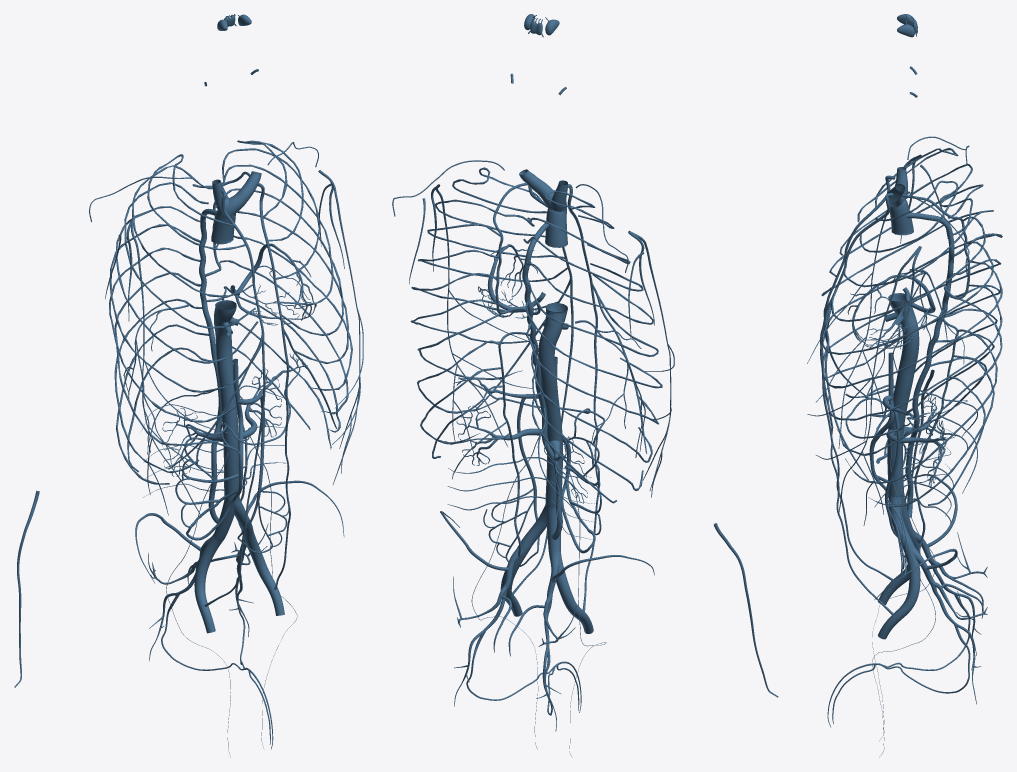
Rendered from venous-trunk-balanced.glb.
3 views of the same model, side by side, from view 1: azimuth 30°, elevation 25°; view 2: azimuth 150°, elevation 25°; view 3: azimuth 270°, elevation 25° (orthographic). The views are drawn at different scales.
Parts seen in each view (by area): view 1: za.right-superior-intercostal-vein, za.left-superior-intercostal-vein, za.inferior-vena-cava-abdominal-part, za.inferior-vena-cava-thoracic-part, za.lateral-thoracic-vein-r, za.external-iliac-vein-r, za.lateral-thoracic-vein-l, za.azygos-vein, za.external-iliac-vein-l, za.superior-mesenteric-vein, za.left-brachiocephalic-vein, za.right-ascending-lumbar-vein (+1 smaller); view 2: za.right-superior-intercostal-vein, za.left-superior-intercostal-vein, za.inferior-vena-cava-thoracic-part, za.inferior-vena-cava-abdominal-part, za.azygos-vein, za.lateral-thoracic-vein-l, za.right-ascending-lumbar-vein, za.external-iliac-vein-r, za.lateral-thoracic-vein-r, za.superior-vena-cava, za.right-superior-phrenic-vein, za.superior-mesenteric-vein; view 3: za.left-superior-intercostal-vein, za.right-superior-intercostal-vein, za.inferior-vena-cava-abdominal-part, za.inferior-vena-cava-thoracic-part, za.azygos-vein, za.external-iliac-vein-l, za.lateral-thoracic-vein-l, za.lateral-thoracic-vein-r, za.right-ascending-lumbar-vein, za.superior-vena-cava, za.great-cardiac-vein, za.common-iliac-vein-l (+19 smaller).
Part boxes in pixels (left/top/right/bottom): za.right-superior-intercostal-vein: left=109, top=154, right=262, bottom=484; za.left-superior-intercostal-vein: left=192, top=140, right=352, bottom=449; za.inferior-vena-cava-abdominal-part: left=218, top=378, right=239, bottom=500; za.inferior-vena-cava-thoracic-part: left=214, top=300, right=236, bottom=379; za.lateral-thoracic-vein-r: left=131, top=215, right=231, bottom=517; za.external-iliac-vein-r: left=194, top=534, right=222, bottom=633; za.lateral-thoracic-vein-l: left=318, top=170, right=363, bottom=484; za.azygos-vein: left=199, top=208, right=219, bottom=390; za.external-iliac-vein-l: left=241, top=530, right=284, bottom=615; za.superior-mesenteric-vein: left=186, top=402, right=243, bottom=540; za.left-brachiocephalic-vein: left=217, top=171, right=261, bottom=219; za.right-ascending-lumbar-vein: left=208, top=390, right=247, bottom=523; za.right-superior-intercostal-vein: left=523, top=190, right=662, bottom=503; za.left-superior-intercostal-vein: left=410, top=167, right=567, bottom=458; za.inferior-vena-cava-thoracic-part: left=538, top=303, right=567, bottom=391; za.inferior-vena-cava-abdominal-part: left=542, top=387, right=562, bottom=506; za.azygos-vein: left=522, top=221, right=549, bottom=409; za.lateral-thoracic-vein-l: left=436, top=184, right=538, bottom=453; za.right-ascending-lumbar-vein: left=515, top=408, right=562, bottom=539; za.external-iliac-vein-r: left=549, top=551, right=593, bottom=633; za.lateral-thoracic-vein-r: left=628, top=230, right=674, bottom=497; za.superior-vena-cava: left=545, top=210, right=567, bottom=247; za.right-superior-phrenic-vein: left=575, top=320, right=645, bottom=457; za.superior-mesenteric-vein: left=561, top=434, right=595, bottom=553; za.left-superior-intercostal-vein: left=821, top=180, right=1002, bottom=506; za.right-superior-intercostal-vein: left=821, top=147, right=1002, bottom=422; za.inferior-vena-cava-abdominal-part: left=887, top=373, right=913, bottom=495; za.inferior-vena-cava-thoracic-part: left=888, top=293, right=919, bottom=378; za.azygos-vein: left=906, top=212, right=954, bottom=392; za.external-iliac-vein-l: left=878, top=543, right=920, bottom=639; za.lateral-thoracic-vein-l: left=807, top=246, right=920, bottom=525; za.lateral-thoracic-vein-r: left=807, top=155, right=921, bottom=448; za.right-ascending-lumbar-vein: left=900, top=391, right=919, bottom=517; za.superior-vena-cava: left=890, top=201, right=913, bottom=235; za.great-cardiac-vein: left=847, top=274, right=933, bottom=343; za.common-iliac-vein-l: left=888, top=494, right=912, bottom=547.
Size of the model in its own units: 0.4284 by 0.8758 by 0.2125.
